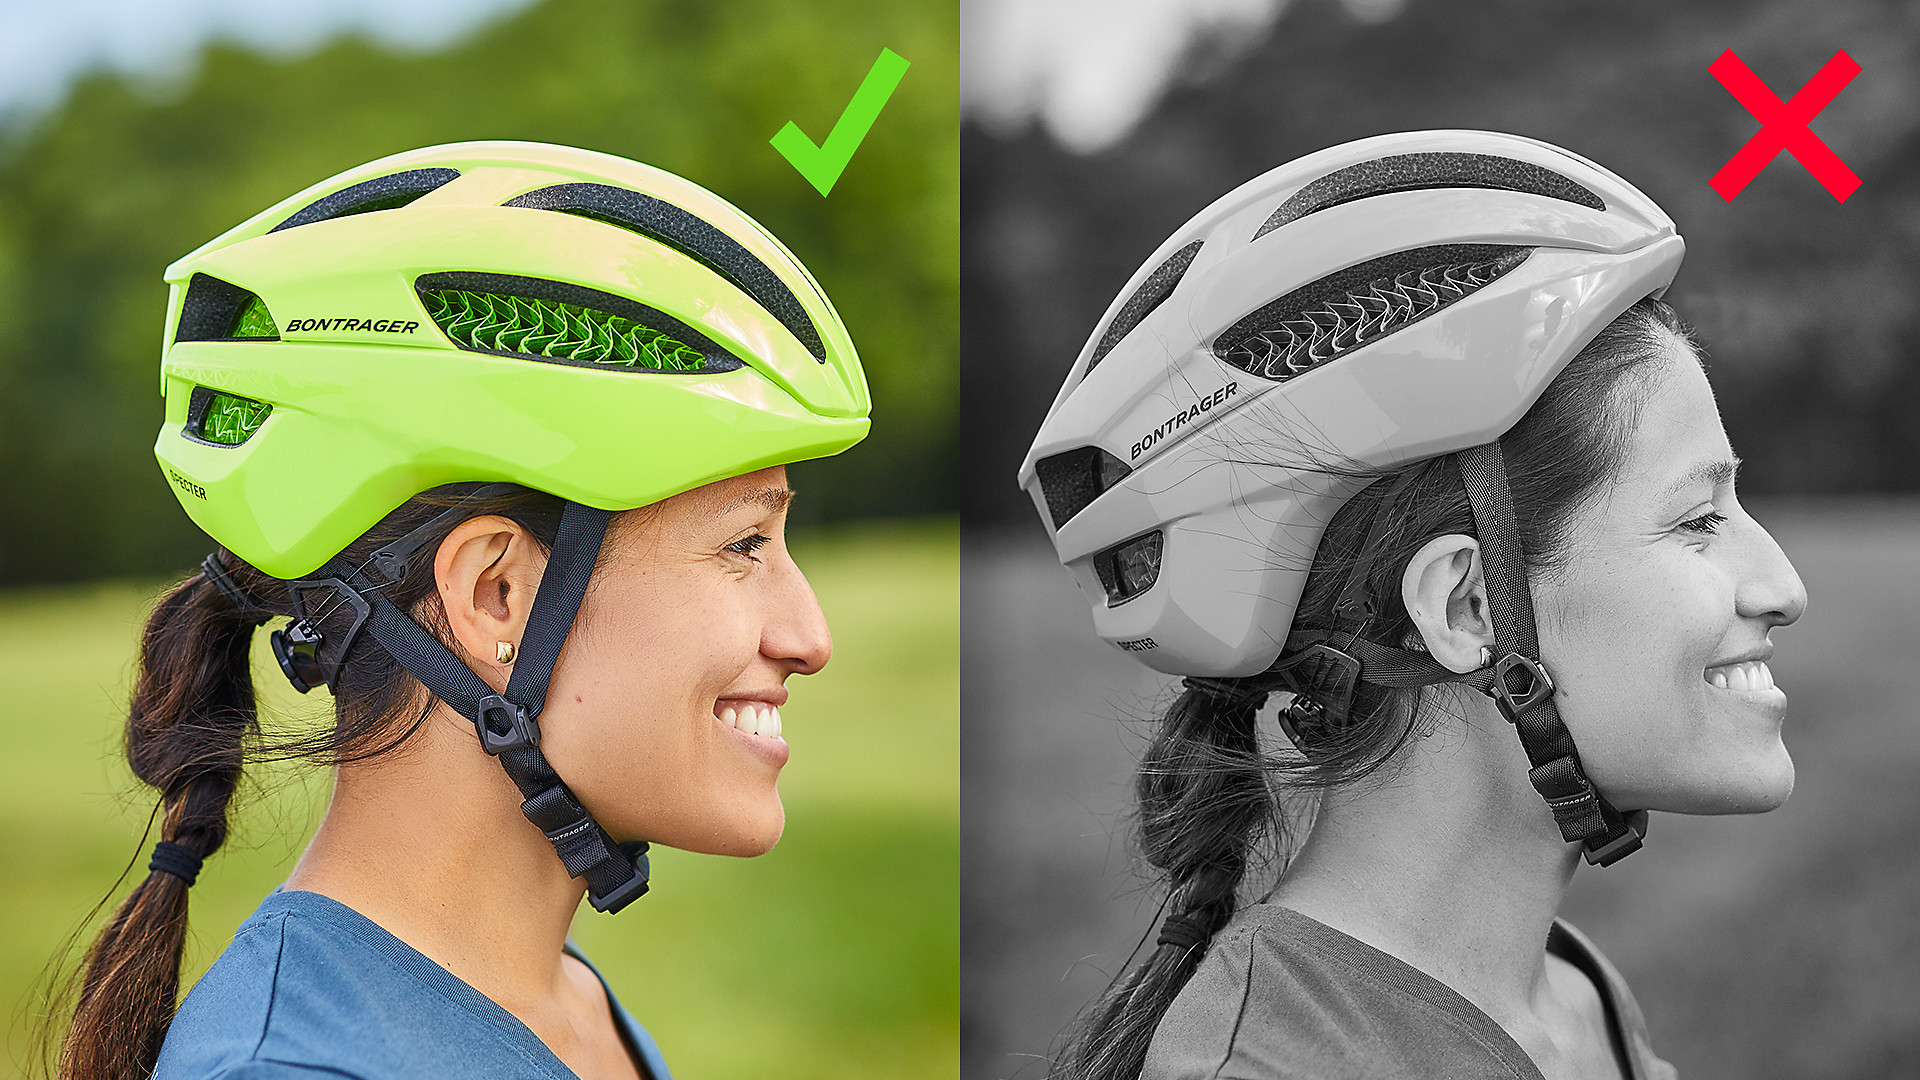helmet: (1015, 127, 1809, 815), (153, 138, 874, 858)
